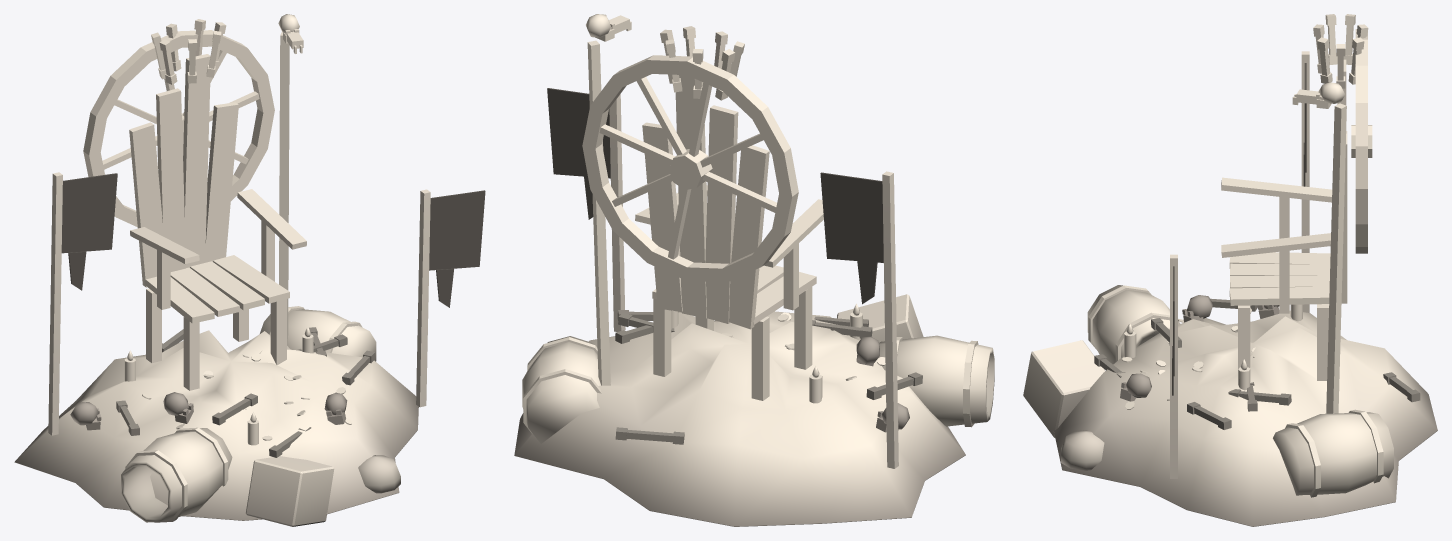
File: SM_VKI_Prop_POI_RatKing.fbx
3 renders of one model, left to right at view 1: azimuth 30°, elevation 25°; view 2: azimuth 150°, elevation 25°; view 3: azimuth 270°, elevation 25°, orthographic. The views are drawn at different scales.
Visible parts, largest first — view 1: SM_VKI_Prop_POI_RatKing.001; view 2: SM_VKI_Prop_POI_RatKing.001; view 3: SM_VKI_Prop_POI_RatKing.001.
Boxes of the visible parts, x1,y1,x2,y2 form: SM_VKI_Prop_POI_RatKing.001: (14, 14, 485, 526); SM_VKI_Prop_POI_RatKing.001: (514, 14, 994, 526); SM_VKI_Prop_POI_RatKing.001: (1023, 14, 1437, 526).
Bounding box in the file's own units: 2.73 × 2.57 × 2.36.
